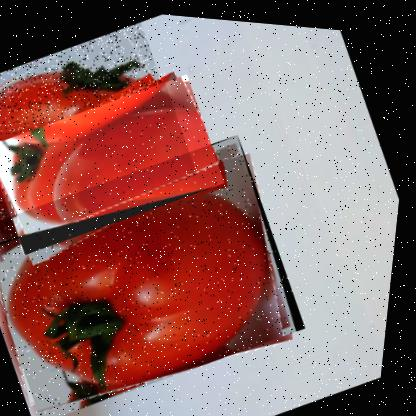tomato: (0, 113, 327, 415), (0, 9, 209, 270), (0, 57, 236, 271)
